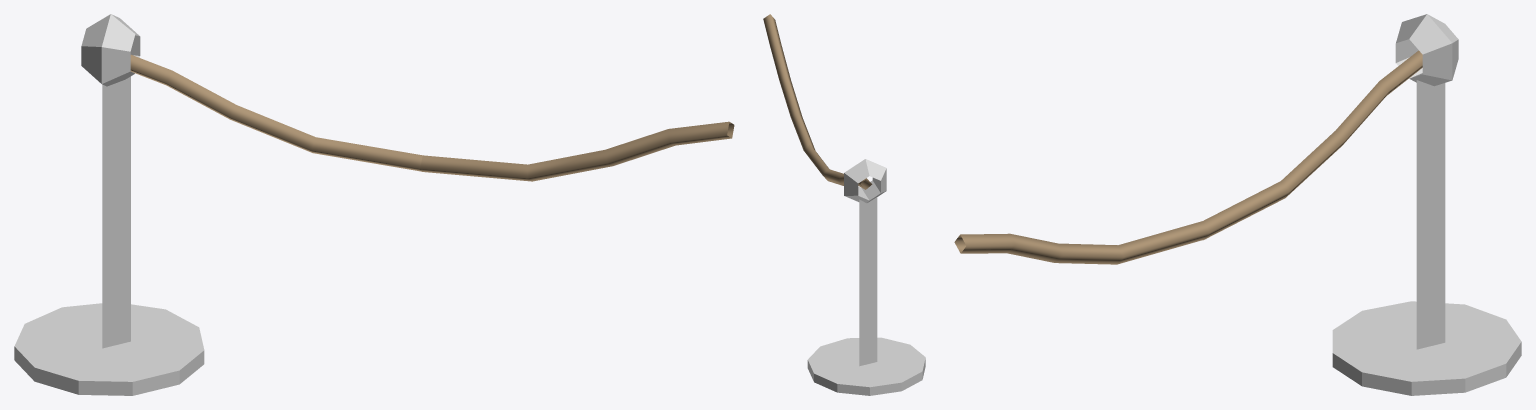
Rendered from RopeFence.fbx.
3 renders of one model, left to right at view 1: azimuth 30°, elevation 25°; view 2: azimuth 150°, elevation 25°; view 3: azimuth 270°, elevation 25°, orthographic. The views are drawn at different scales.
Visible parts, largest first — view 1: Torus.001, BezierCurve; view 2: Torus.001, BezierCurve; view 3: Torus.001, BezierCurve.
Boxes of the visible parts, left/top/right/bottom form: Torus.001: left=14, top=14, right=204, bottom=395; BezierCurve: left=130, top=54, right=734, bottom=181; Torus.001: left=807, top=159, right=925, bottom=395; BezierCurve: left=763, top=14, right=872, bottom=189; Torus.001: left=1332, top=14, right=1521, bottom=395; BezierCurve: left=954, top=50, right=1422, bottom=264.
Size of the model in its own units: 278 by 189 by 284.
